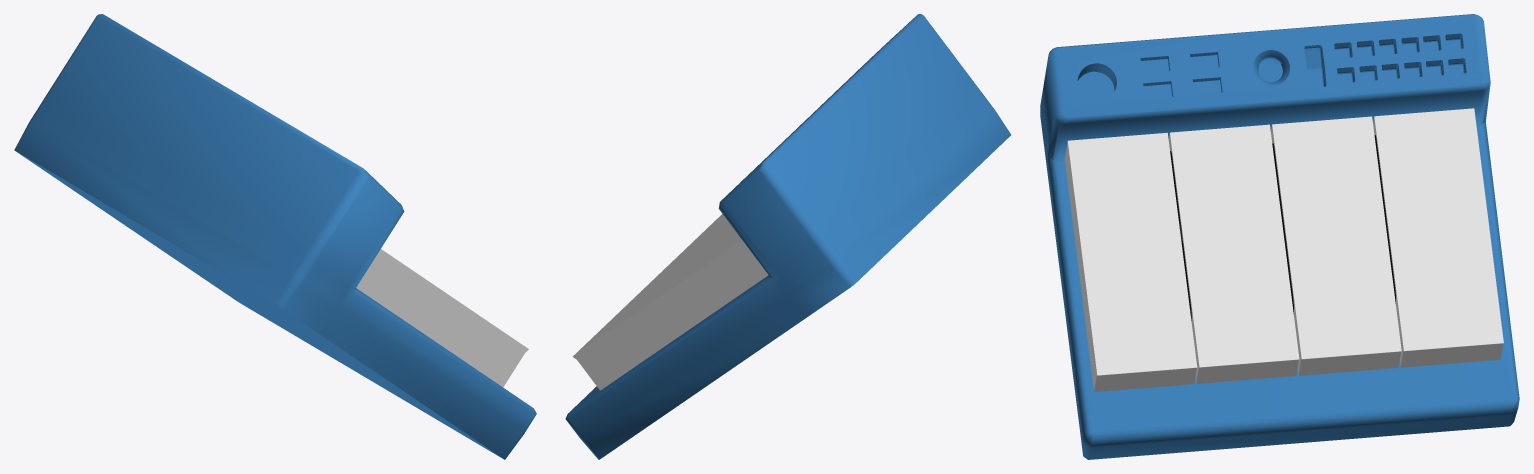
Rendered from piano.glb.
The picture shows the model from 3 angles, left to right: view 1: azimuth 30°, elevation 25°; view 2: azimuth 150°, elevation 25°; view 3: azimuth 270°, elevation 25°; orthographic projection. The views are drawn at different scales.
Visible parts, largest first — view 1: Cube_2, Cube.004_1; view 2: Cube_2, Cube.004_1; view 3: Cube.004_1, Cube_2, Cube.006_4.
Part boxes in pixels (x1=…): Cube_2: x1=14, y1=14, x2=536, y2=459; Cube.004_1: x1=356, y1=249, x2=528, y2=387; Cube_2: x1=565, y1=14, x2=1011, y2=459; Cube.004_1: x1=572, y1=214, x2=768, y2=390; Cube.004_1: x1=1064, y1=108, x2=1503, y2=391; Cube_2: x1=1040, y1=14, x2=1519, y2=459; Cube.006_4: x1=1170, y1=135, x2=1395, y2=320.
Size of the model in its own units: 67907 by 68900 by 86393.
